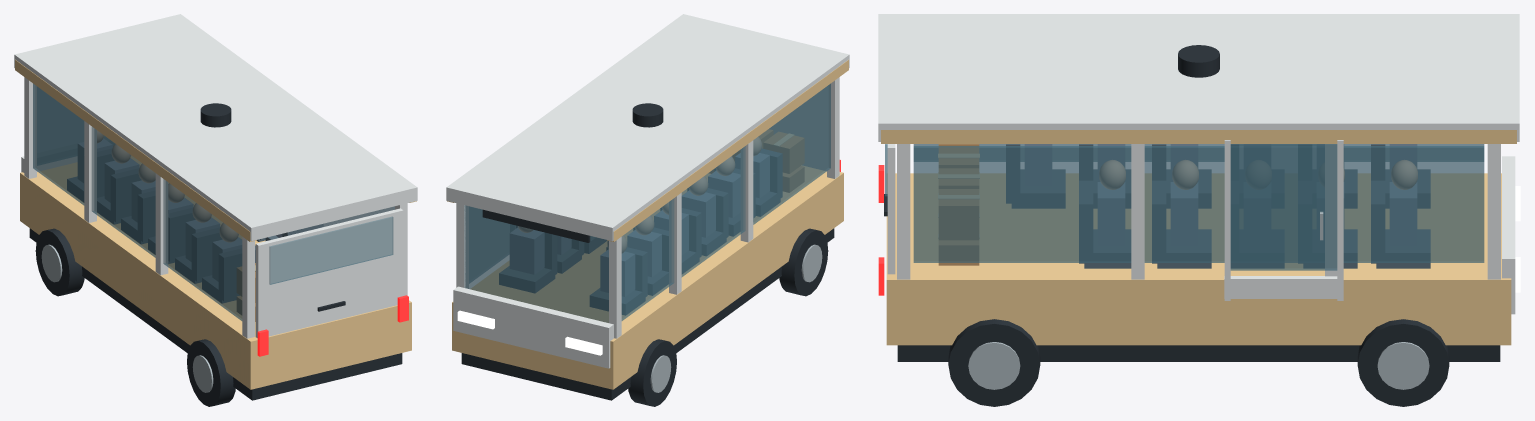
The model's file is drt-amber.glb.
3 views of the same model, side by side, from view 1: azimuth 30°, elevation 25°; view 2: azimuth 150°, elevation 25°; view 3: azimuth 270°, elevation 25° (orthographic). The views are drawn at different scales.
Visible parts, largest first — view 1: ROOF, LowerBody, Window, HatchBody, Pillar (×5), SeatBack (×6), RearWindow, Wheel (×2), Chassis, RoofRail, Windshield, Body (×5) (+2 smaller); view 2: ROOF, LowerBody, Window (×2), Windshield, FrontFace, Body (×7), Pillar (×5), Wheel (×2), SeatBase (×6), Chassis, SeatBack (×5), RoofRail (+6 smaller); view 3: ROOF, Window (×2), LowerBody, DoorGlass, Wheel (×2), RoofRail, SeatBase (×7), Pillar (×4), Chassis, Body (×4), Box (×4), WheelHub (×2) (+7 smaller).
Boxes of the visible parts, left/top/right/bottom form: ROOF: left=14, top=14, right=417, bottom=241; LowerBody: left=20, top=156, right=411, bottom=389; Window: left=33, top=83, right=242, bottom=320; HatchBody: left=255, top=208, right=403, bottom=337; Pillar (×5): left=24, top=77, right=407, bottom=338; SeatBack (×6): left=97, top=149, right=255, bottom=300; RearWindow: left=269, top=216, right=393, bottom=284; Wheel (×2): left=35, top=228, right=235, bottom=406; Chassis: left=29, top=228, right=402, bottom=400; RoofRail: left=15, top=59, right=256, bottom=241; Windshield: left=37, top=87, right=114, bottom=165; Body (×5): left=78, top=138, right=241, bottom=281; ROOF: left=446, top=14, right=849, bottom=241; LowerBody: left=452, top=165, right=843, bottom=389; Window (×2): left=469, top=83, right=830, bottom=320; Windshield: left=464, top=205, right=608, bottom=322; FrontFace: left=453, top=286, right=613, bottom=368; Body (×7): left=510, top=153, right=769, bottom=296; Pillar (×5): left=456, top=77, right=839, bottom=338; Wheel (×2): left=628, top=228, right=828, bottom=406; SeatBase (×6): left=499, top=191, right=780, bottom=315; Chassis: left=461, top=228, right=834, bottom=400; SeatBack (×5): left=516, top=149, right=782, bottom=296; RoofRail: left=607, top=59, right=848, bottom=241; ROOF: left=878, top=14, right=1519, bottom=141; Window (×2): left=913, top=144, right=1484, bottom=262; LowerBody: left=886, top=173, right=1511, bottom=345; DoorGlass: left=1230, top=144, right=1337, bottom=270; Wheel (×2): left=948, top=319, right=1449, bottom=406; RoofRail: left=881, top=130, right=1516, bottom=143; SeatBase (×7): left=1012, top=169, right=1430, bottom=268; Pillar (×4): left=897, top=144, right=1500, bottom=279; Chassis: left=897, top=345, right=1500, bottom=361; Body (×4): left=1024, top=144, right=1416, bottom=245; Box (×4): left=938, top=148, right=979, bottom=265; WheelHub (×2): left=968, top=342, right=1429, bottom=389.
Bounding box in the file's own units: 2.52 × 2.94 × 5.81.
